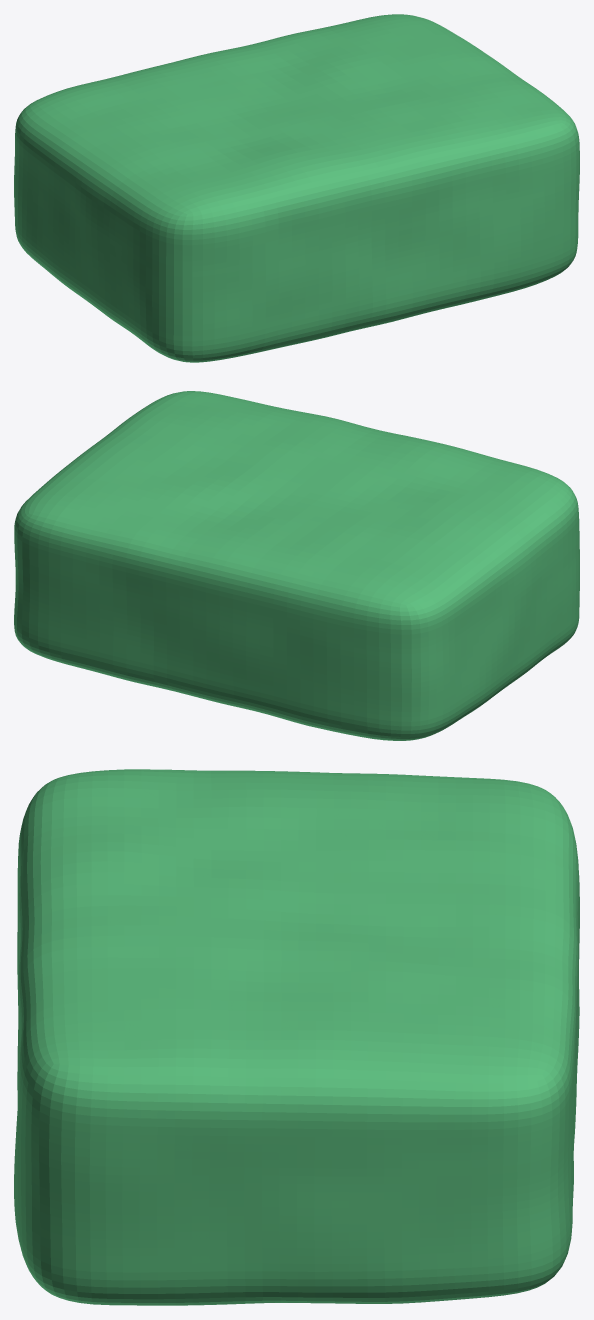
3 renders of one model, top to bottom at view 1: azimuth 30°, elevation 25°; view 2: azimuth 150°, elevation 25°; view 3: azimuth 270°, elevation 25°, orthographic. The views are drawn at different scales.
Visible parts, largest first — view 1: Pillow; view 2: Pillow; view 3: Pillow.
Part boxes in pixels (box(x1,y1,x2,y2)): Pillow: box(14, 14, 579, 362); Pillow: box(14, 391, 579, 740); Pillow: box(14, 769, 579, 1305).
Bounding box in the file's own units: 1.11 × 0.4223 × 0.8095.
